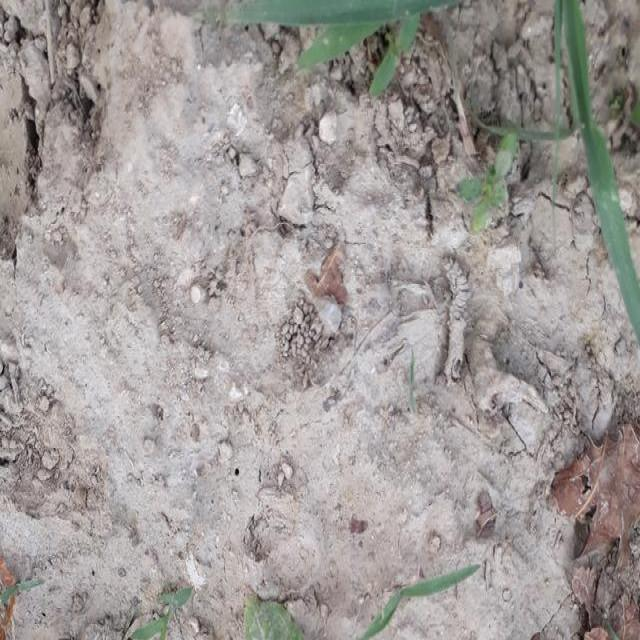weed: (561, 0, 639, 352), (244, 4, 470, 80), (352, 567, 484, 634), (462, 149, 526, 235), (471, 106, 574, 158), (134, 584, 203, 640), (238, 584, 304, 640)
